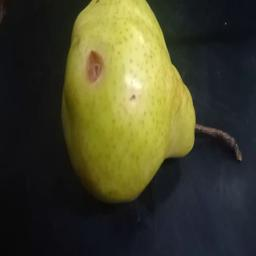Pear Semifresh: (49, 0, 243, 216)
